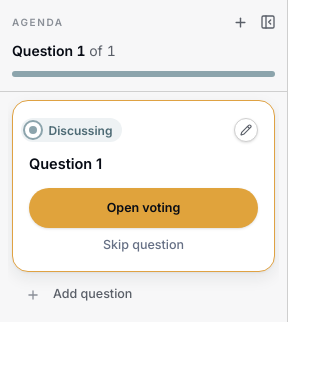
Test: AgendaPanel brainstorm-only questions (F41) › shows the server refusing a late switch
The image size is (320, 379).
Click the button named "Edit question 1" at (246, 130), box [234,118,258,142]
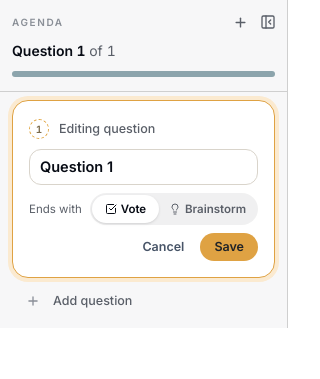
Click the radio button labelled "Brainstorm" at (208, 209), box [159,195,256,223]
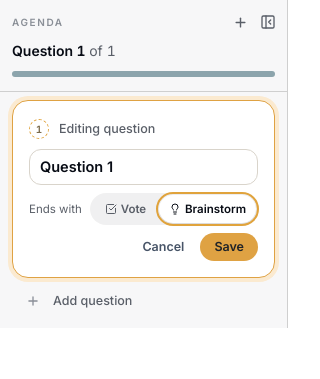
Click the button "Save" at (229, 247), box [200,233,258,261]
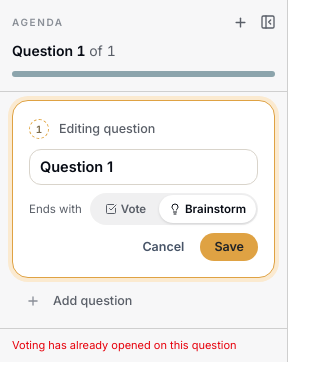
Result: the text "Voting has already opened on this question" is shown at [0,328,287,362]
